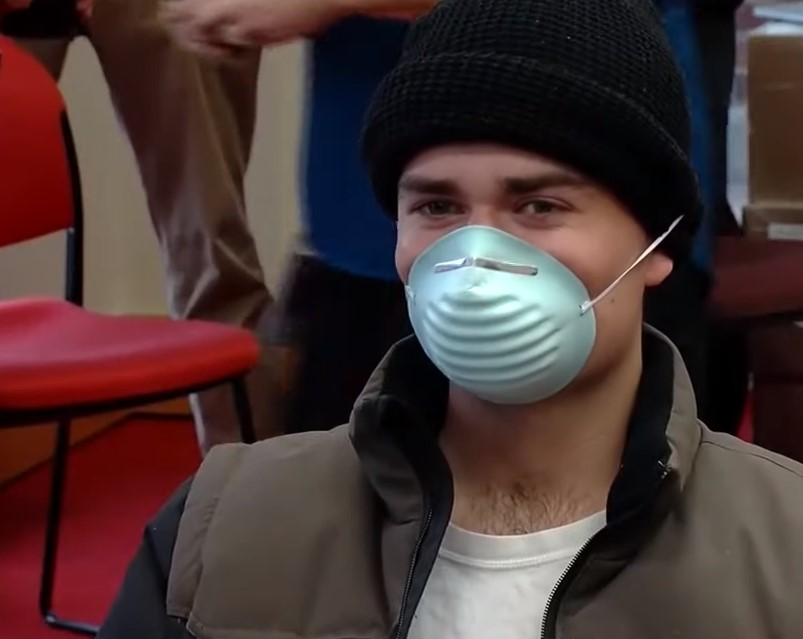face_with_mask: (385, 12, 680, 411)
